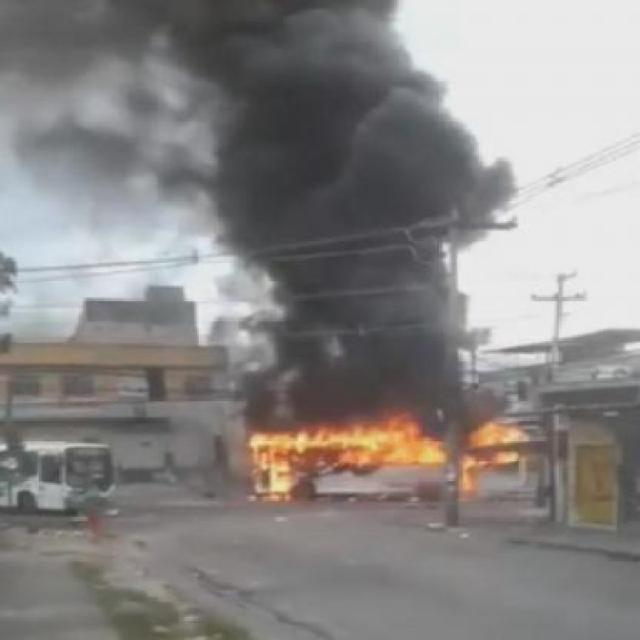Fire: (226, 380, 540, 520)
Smoke: (203, 0, 520, 431), (0, 0, 226, 271)
